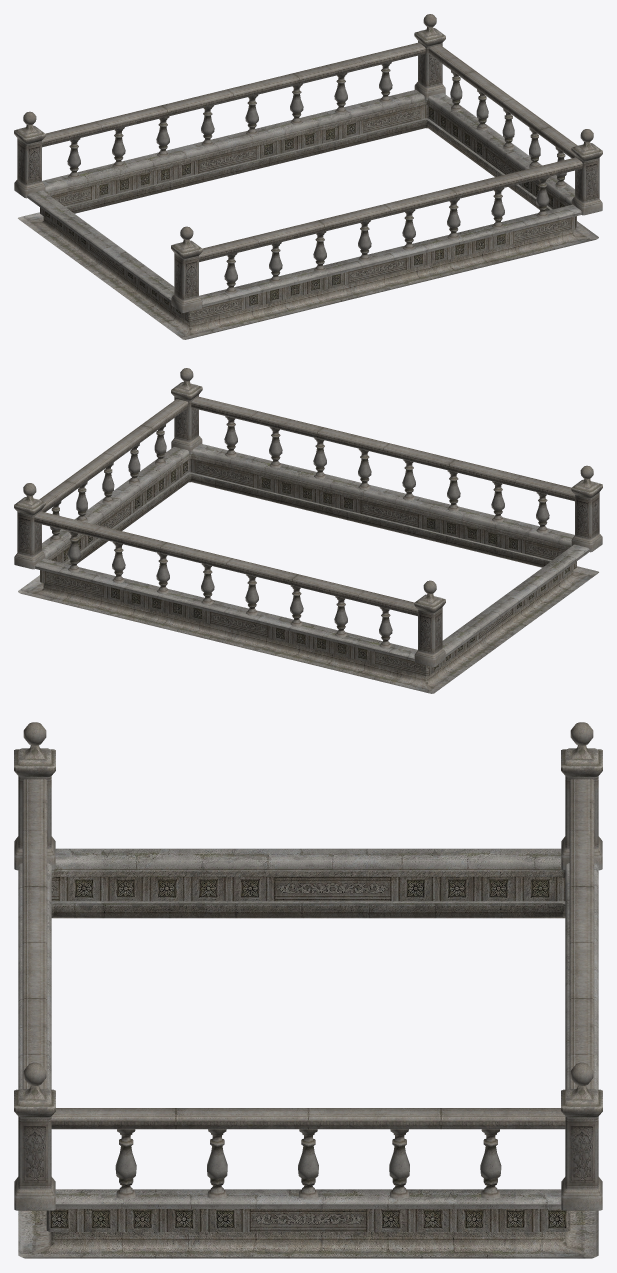
The model's file is PlantWall0.fbx.
The picture shows the model from 3 angles, top to bottom: view 1: azimuth 30°, elevation 25°; view 2: azimuth 150°, elevation 25°; view 3: azimuth 270°, elevation 25°; orthographic projection. The views are drawn at different scales.
Visible parts, largest first — view 1: LV_Campagna_Uni_InStRail_SM_CJH; view 2: LV_Campagna_Uni_InStRail_SM_CJH; view 3: LV_Campagna_Uni_InStRail_SM_CJH.
Part boxes in pixels (x1,y1,x2,y2): LV_Campagna_Uni_InStRail_SM_CJH: (14, 14, 602, 339); LV_Campagna_Uni_InStRail_SM_CJH: (14, 368, 602, 693); LV_Campagna_Uni_InStRail_SM_CJH: (14, 722, 602, 1258).
Bounding box in the file's own units: 2.56 × 0.6308 × 1.78.
Materials: 1 (1 with a texture image).
